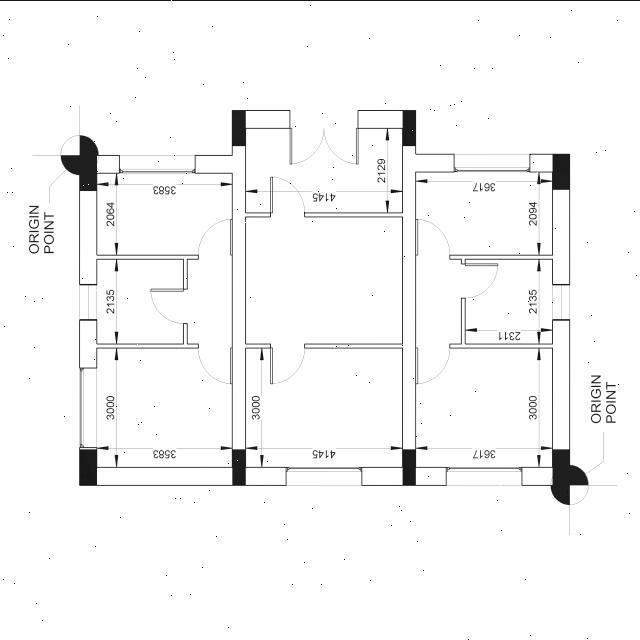Column: (79, 448, 97, 485), (79, 154, 97, 190), (552, 152, 570, 188), (552, 448, 570, 484), (232, 448, 246, 485), (232, 109, 246, 145), (402, 109, 416, 145), (402, 448, 416, 484)
Door: (290, 110, 358, 164), (416, 218, 450, 259), (198, 343, 232, 383), (271, 343, 305, 383), (198, 218, 232, 258), (270, 176, 304, 216), (416, 343, 450, 383), (461, 262, 498, 298), (151, 288, 187, 322)
Window: (454, 153, 530, 171), (446, 466, 522, 484), (286, 466, 362, 484), (119, 154, 195, 172), (80, 367, 96, 447), (552, 284, 570, 320), (79, 284, 97, 320)
